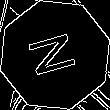N_E: (25, 29, 85, 81)
